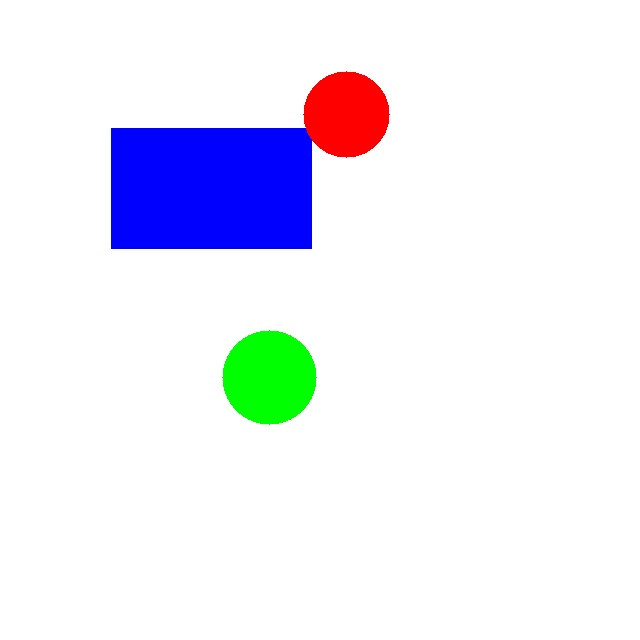cartao: (111, 128, 311, 248)
rosca_externa: (222, 330, 316, 424)
rosca_interna: (303, 71, 389, 157)
